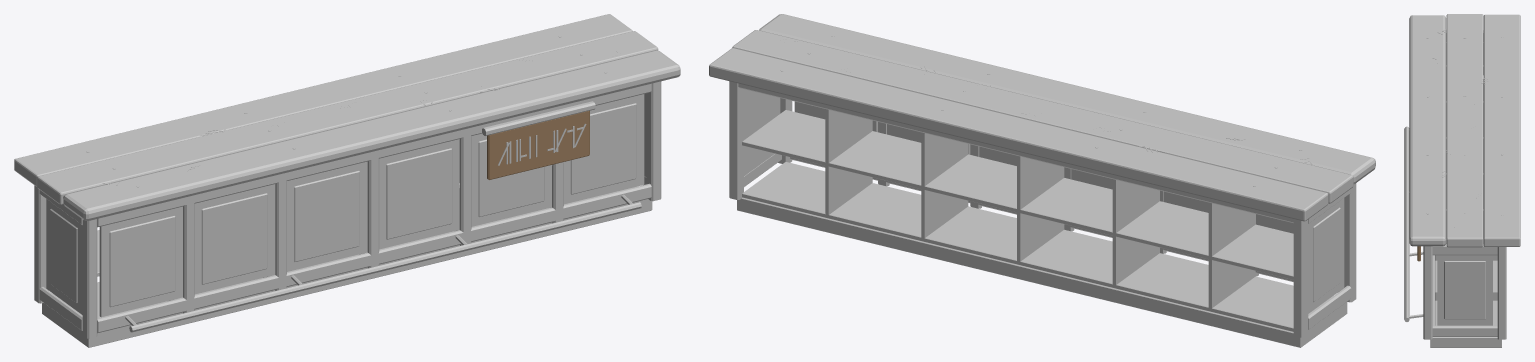
File: furn_bar_counter.glb
3 renders of one model, left to right at view 1: azimuth 30°, elevation 25°; view 2: azimuth 150°, elevation 25°; view 3: azimuth 270°, elevation 25°, orthographic. The views are drawn at different scales.
Parts seen in each view (by area): view 1: furn_bar_counter; view 2: furn_bar_counter; view 3: furn_bar_counter.
Part boxes in pixels (x1,y1,x2,y2): furn_bar_counter: (14,14,680,347); furn_bar_counter: (709,14,1375,347); furn_bar_counter: (1404,14,1520,347).
Size of the model in its own units: 4.59 by 1.11 by 1.
